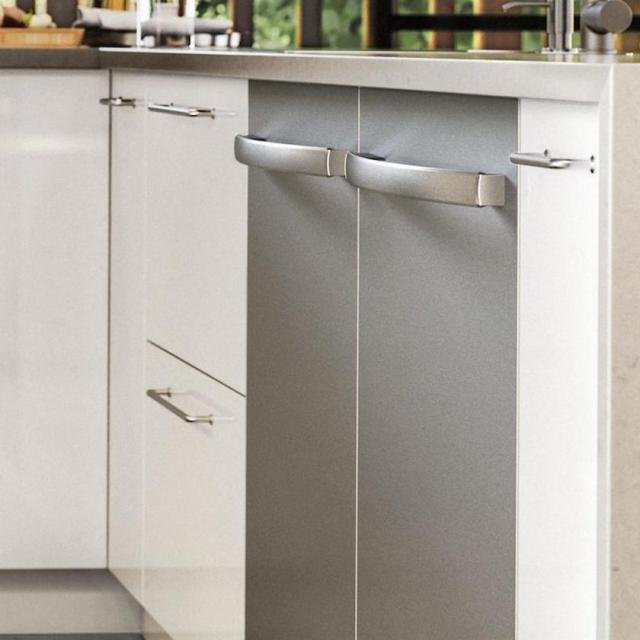dishwasher: (229, 63, 537, 640)
